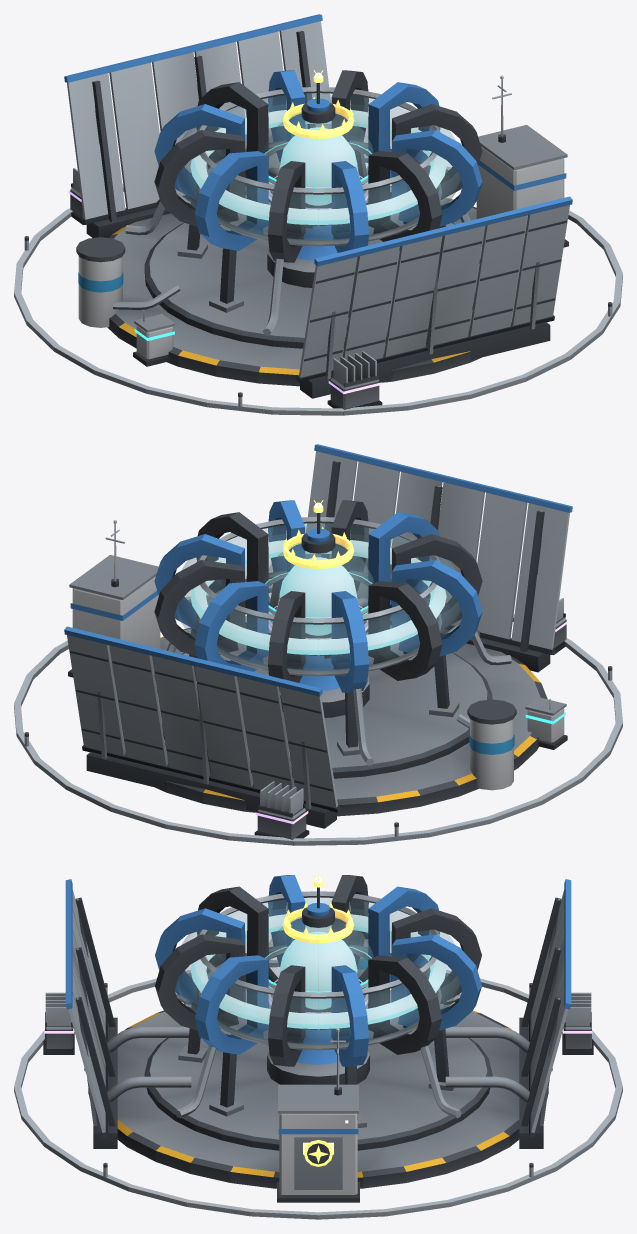
Rendered from fusion_reactor.glb.
3 renders of one model, top to bottom at view 1: azimuth 30°, elevation 25°; view 2: azimuth 150°, elevation 25°; view 3: azimuth 270°, elevation 25°, orthographic.
Parts seen in each view (by area): view 1: Base, L2, Plasma, L4, L3, L5; view 2: Base, L2, Plasma, L4, L3, L5; view 3: Base, L2, Plasma, L4, L5.
Part boxes in pixels (x1,y1,x2,y2): Base: [64, 14, 572, 398]; L2: [14, 75, 622, 415]; Plasma: [190, 110, 446, 225]; L4: [68, 168, 382, 415]; L3: [133, 142, 371, 366]; L5: [282, 70, 354, 138]; Base: [64, 444, 572, 828]; L2: [14, 520, 622, 845]; Plasma: [190, 540, 446, 655]; L4: [254, 598, 568, 845]; L3: [265, 572, 567, 749]; L5: [282, 500, 354, 568]; Base: [65, 875, 571, 1202]; L2: [14, 960, 622, 1219]; Plasma: [191, 914, 445, 1029]; L4: [43, 979, 593, 1054]; L5: [283, 874, 353, 1166].
Size of the model in its own units: 12.44 by 4.91 by 12.44.
